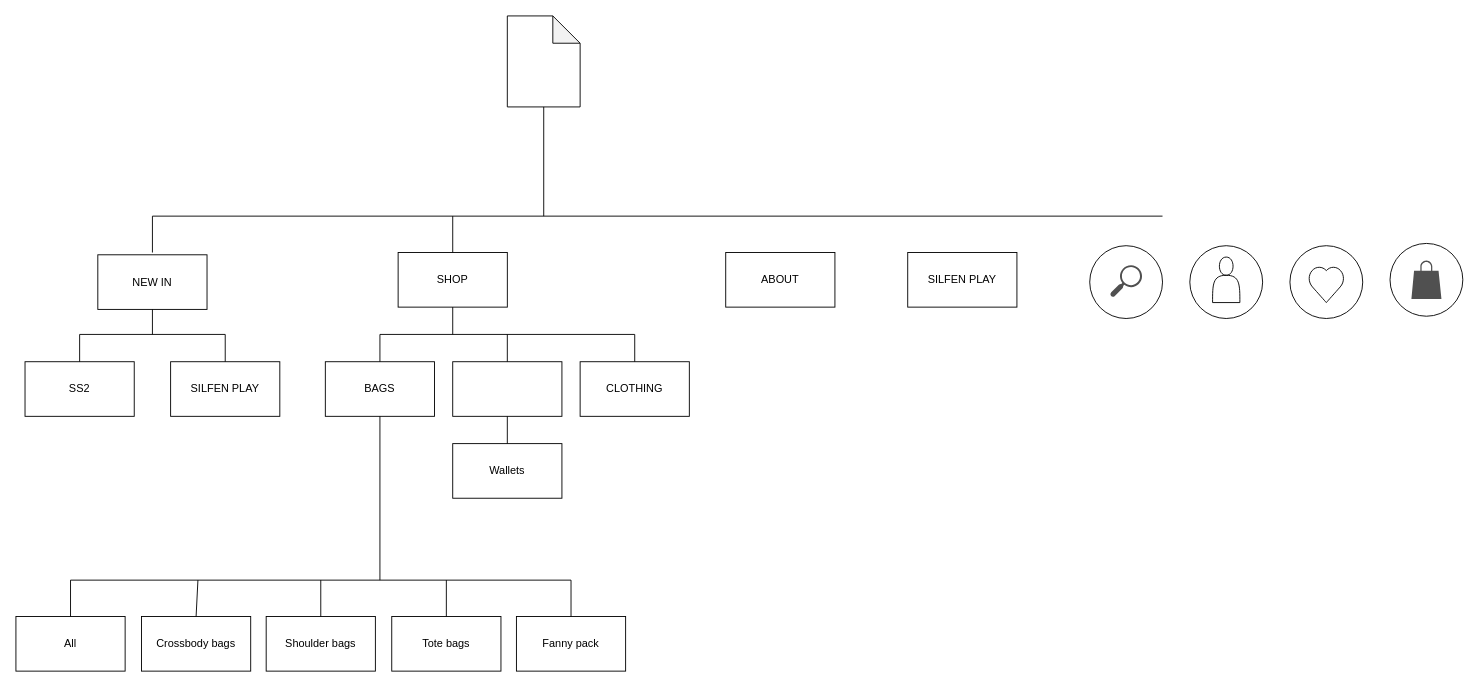
Image size: 1479x687. Some labels were removed from this diagram. The box of each missing label's shape, as (x1, y1, x2, y2) in pixels:
ACCESSORIES: (452, 361, 562, 416)
home: (506, 15, 580, 107)
